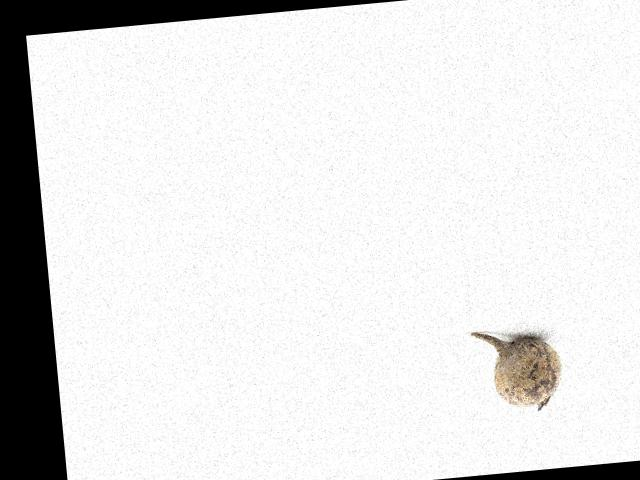beet: (471, 324, 566, 415)
